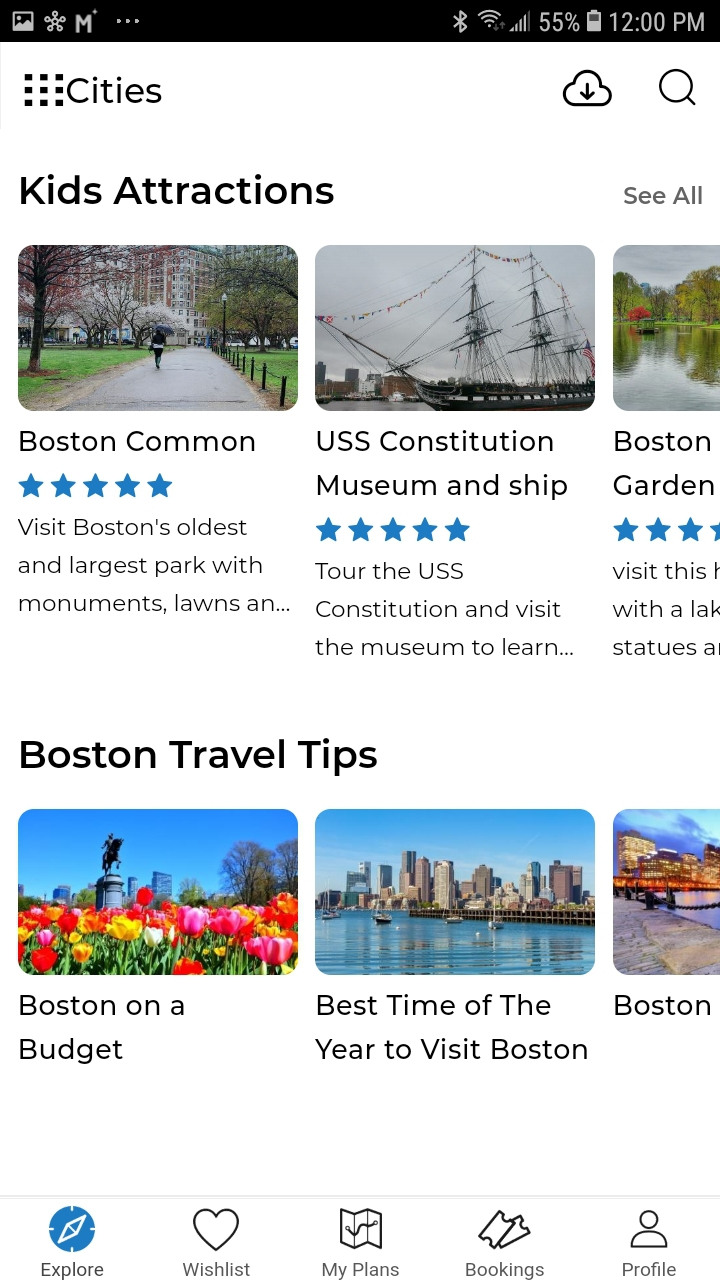Icon: (316, 517, 470, 542), (19, 473, 173, 498), (613, 517, 720, 542), (478, 1210, 531, 1250), (50, 1206, 96, 1252), (193, 1208, 240, 1251), (562, 70, 613, 108), (340, 1208, 383, 1250), (658, 69, 696, 107), (631, 1210, 668, 1248), (25, 75, 65, 107)
Image: (315, 809, 596, 976), (19, 809, 299, 976), (315, 246, 595, 412), (19, 246, 299, 412), (613, 246, 720, 413), (613, 810, 720, 976)
Text: (18, 518, 290, 615), (315, 562, 574, 656), (318, 430, 568, 501), (316, 994, 588, 1059), (22, 738, 378, 777), (20, 995, 185, 1065), (612, 562, 720, 656), (22, 174, 335, 205), (613, 431, 715, 496), (21, 431, 256, 452), (67, 77, 163, 104), (615, 995, 710, 1016), (624, 186, 702, 205), (466, 1262, 544, 1280), (323, 1262, 400, 1280), (42, 1262, 104, 1280), (184, 1262, 251, 1276), (623, 1262, 677, 1277)
UpperTaskBar: (1, 1, 720, 43)
